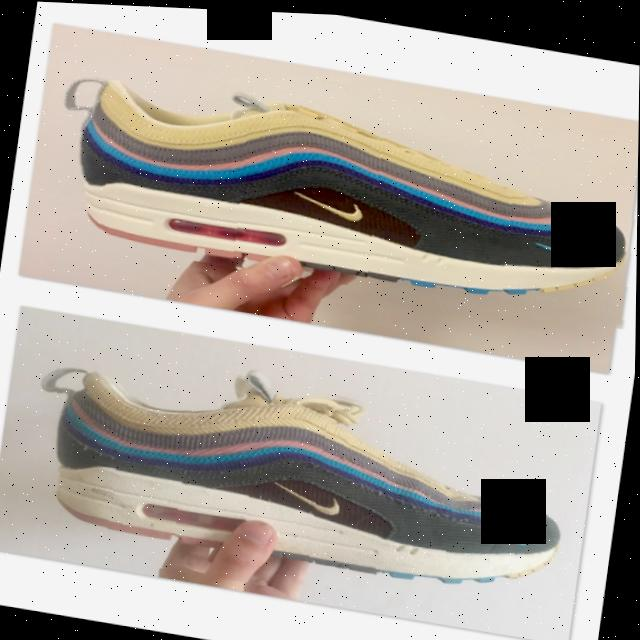shoe: (24, 39, 640, 328), (2, 337, 585, 630)
